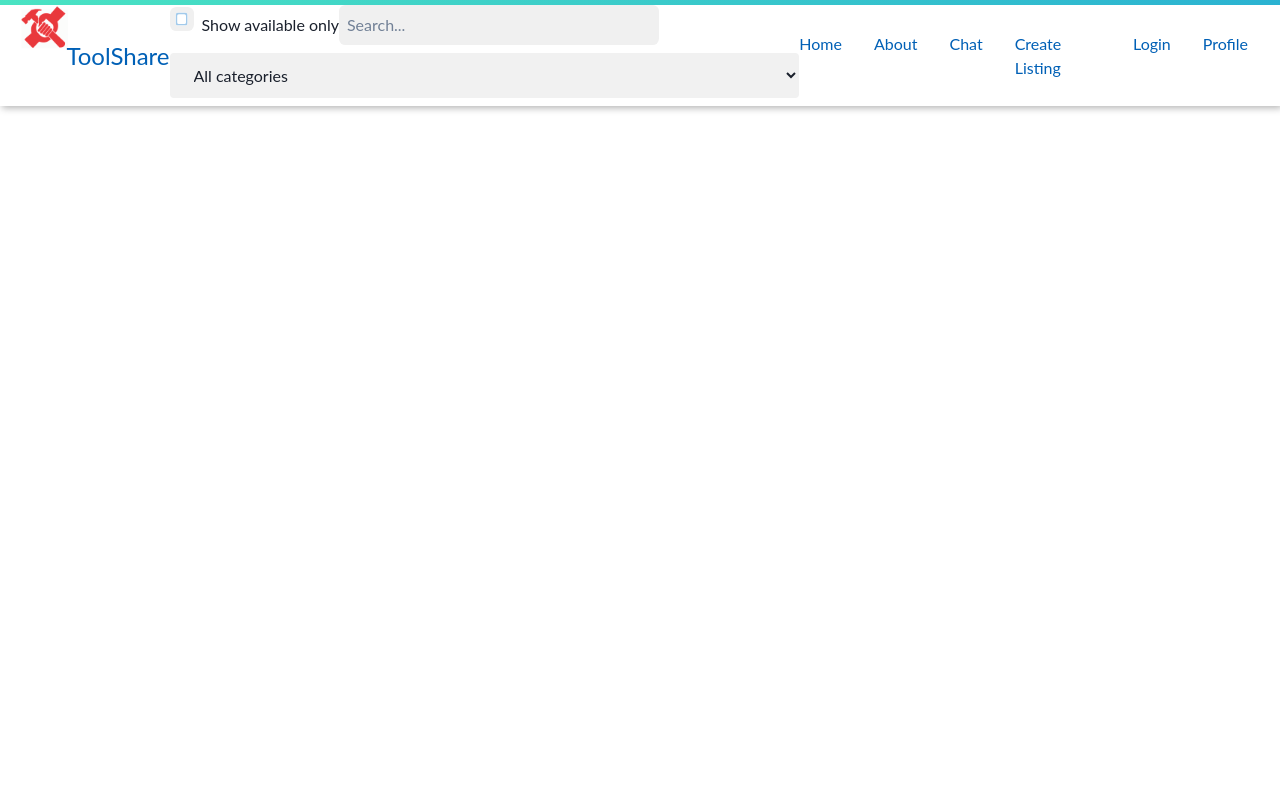
Home Page › visit the different pages and check values › Visit the about page
Click the list item "About" at (896, 44), box [874, 34, 918, 53]
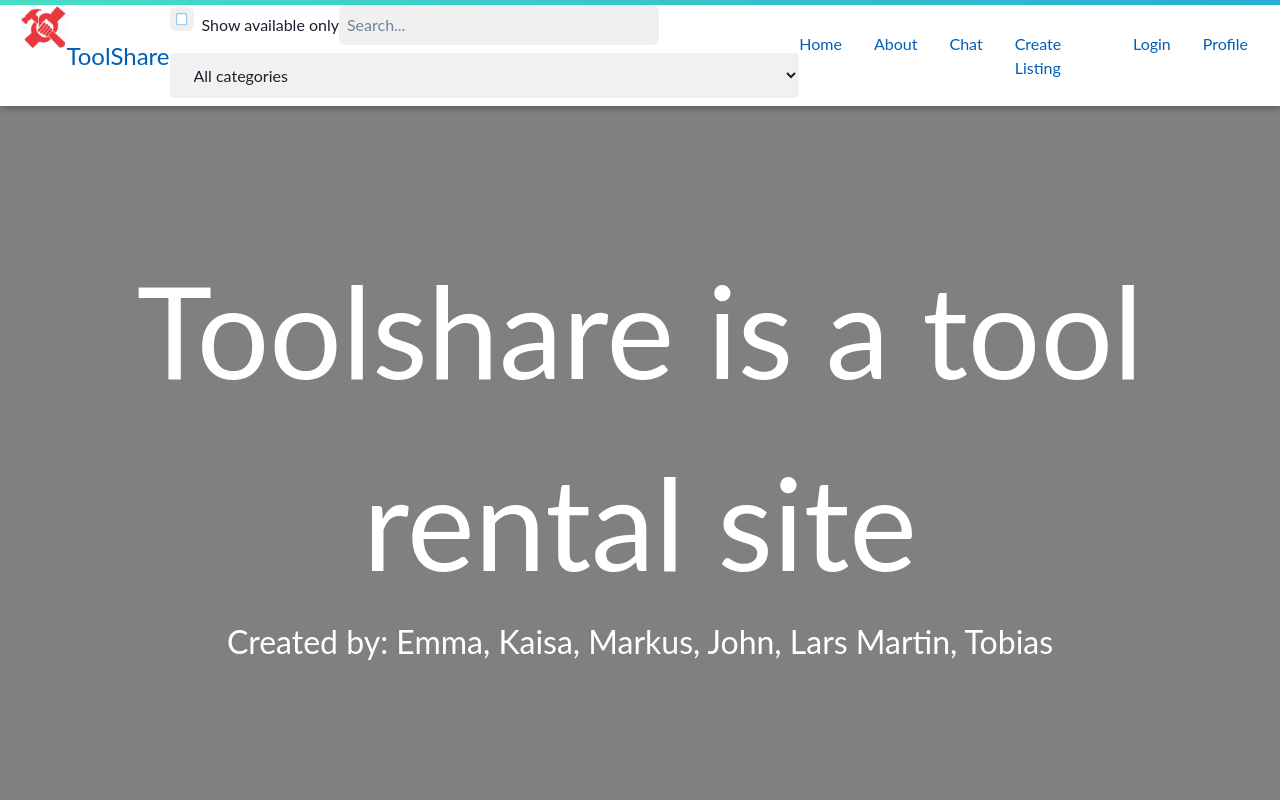
Now the heading "Toolshare is a tool rental site" is shown, box [137, 253, 1143, 598]
Now the text "Created by: Emma, Kaisa, Markus, John, Lars Martin, Tobias" is shown, box [227, 622, 1053, 661]
